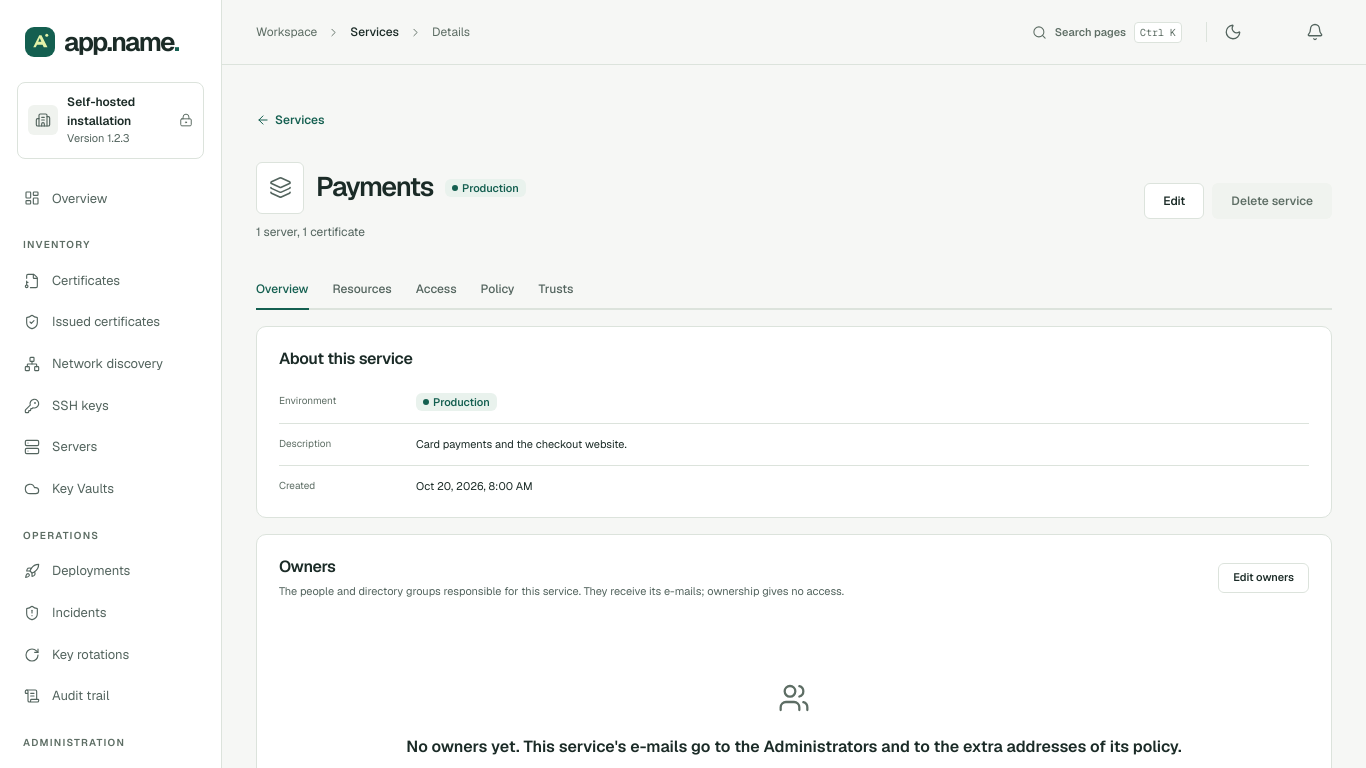
Test: ServicePage › switches between the tabs and keeps the tab in the address
Click the tab "Trusts" at (556, 297), box [538,283,574,310]
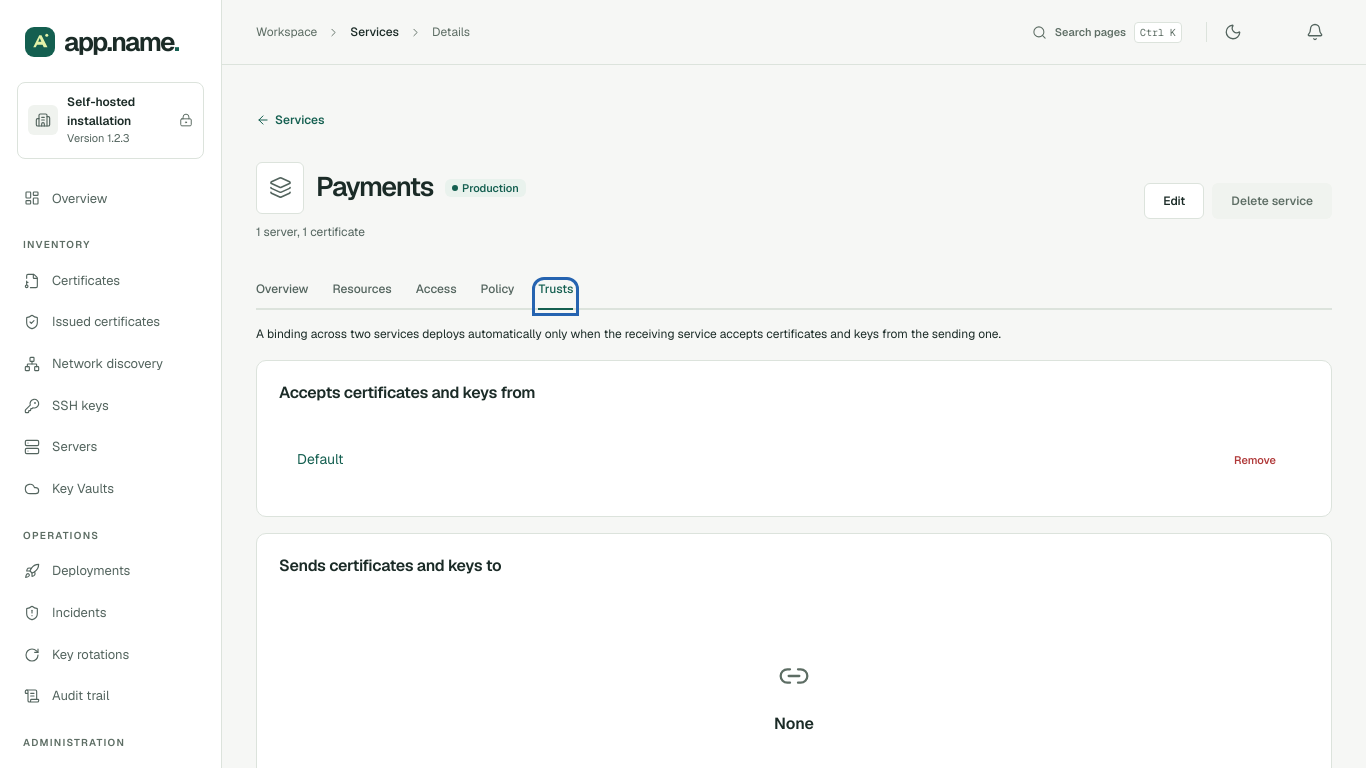
Expected: the table with test id "trusts-accepts" is shown, [279,427,1309,494]
Click the tab "Overview" at (282, 297), box [256,283,308,310]
(page scrolled)
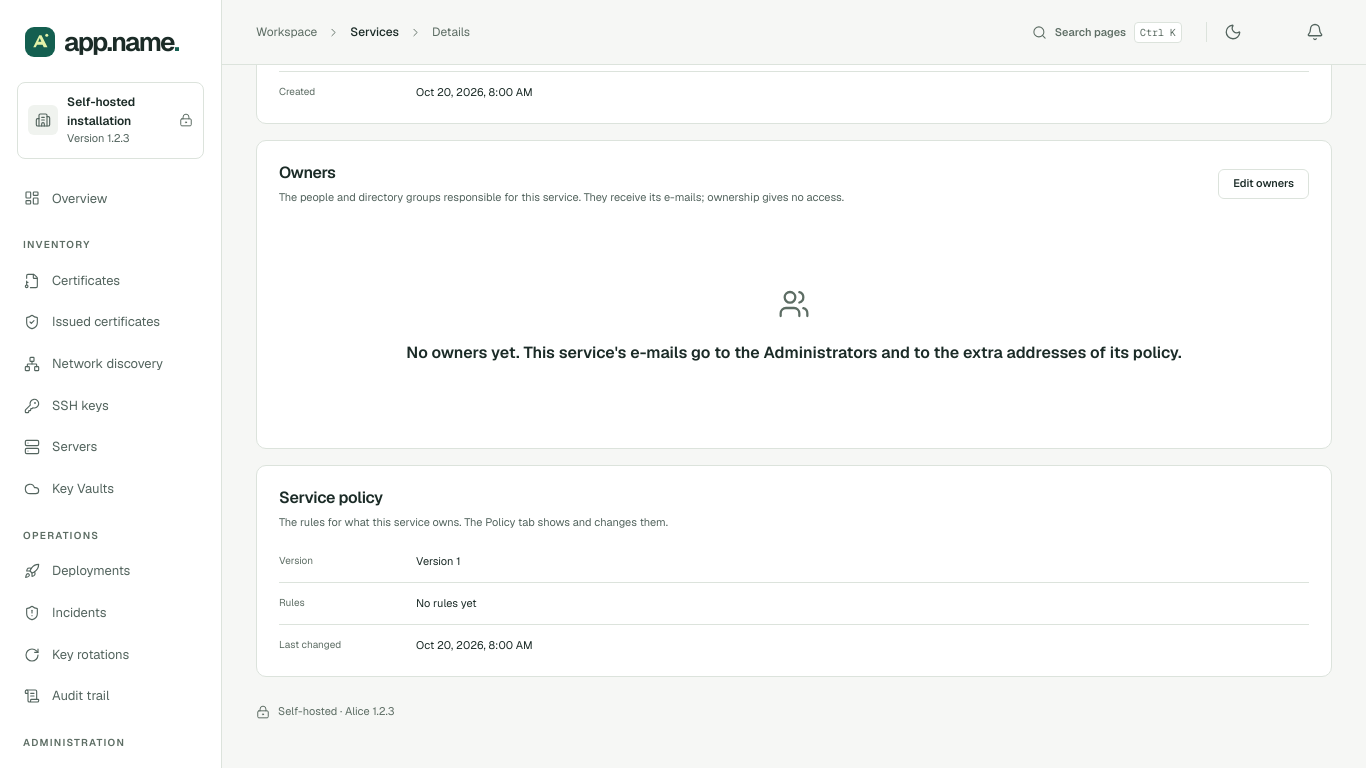
Expected: the text "Version 1" is shown, [416,554,460,568]
